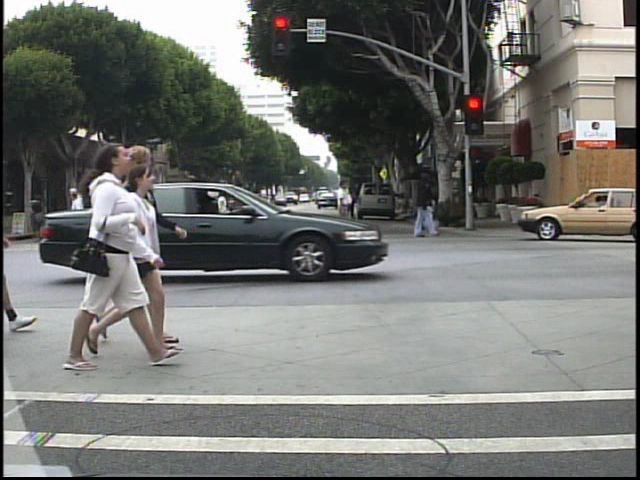person: (63, 140, 160, 378), (117, 160, 185, 366), (125, 144, 182, 351), (406, 167, 441, 240), (330, 177, 357, 241), (158, 187, 182, 250), (68, 190, 93, 246), (207, 182, 230, 240), (65, 185, 84, 247), (344, 187, 359, 223)
